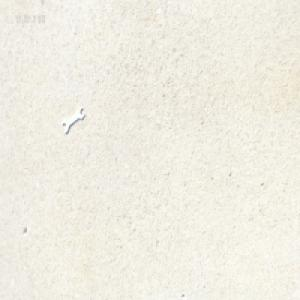Wrench: (62, 106, 85, 137)
